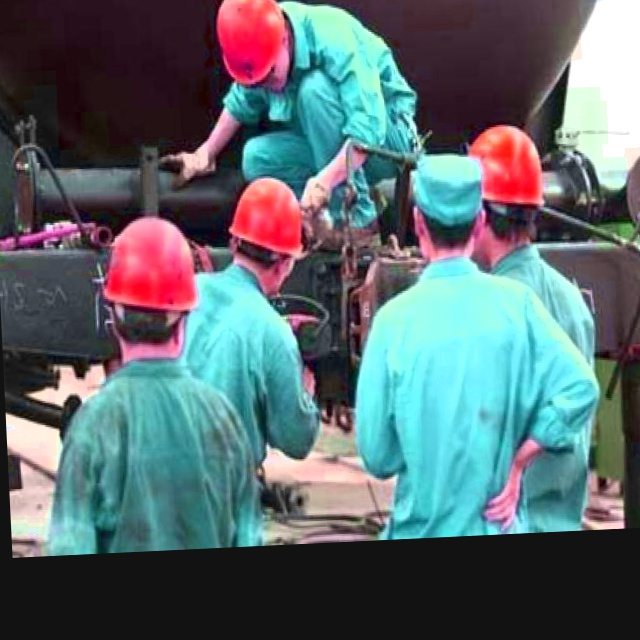Con_Casco: (104, 214, 196, 366), (222, 174, 310, 294)
Sin_Casco_Mascarrilla: (406, 154, 487, 267)
